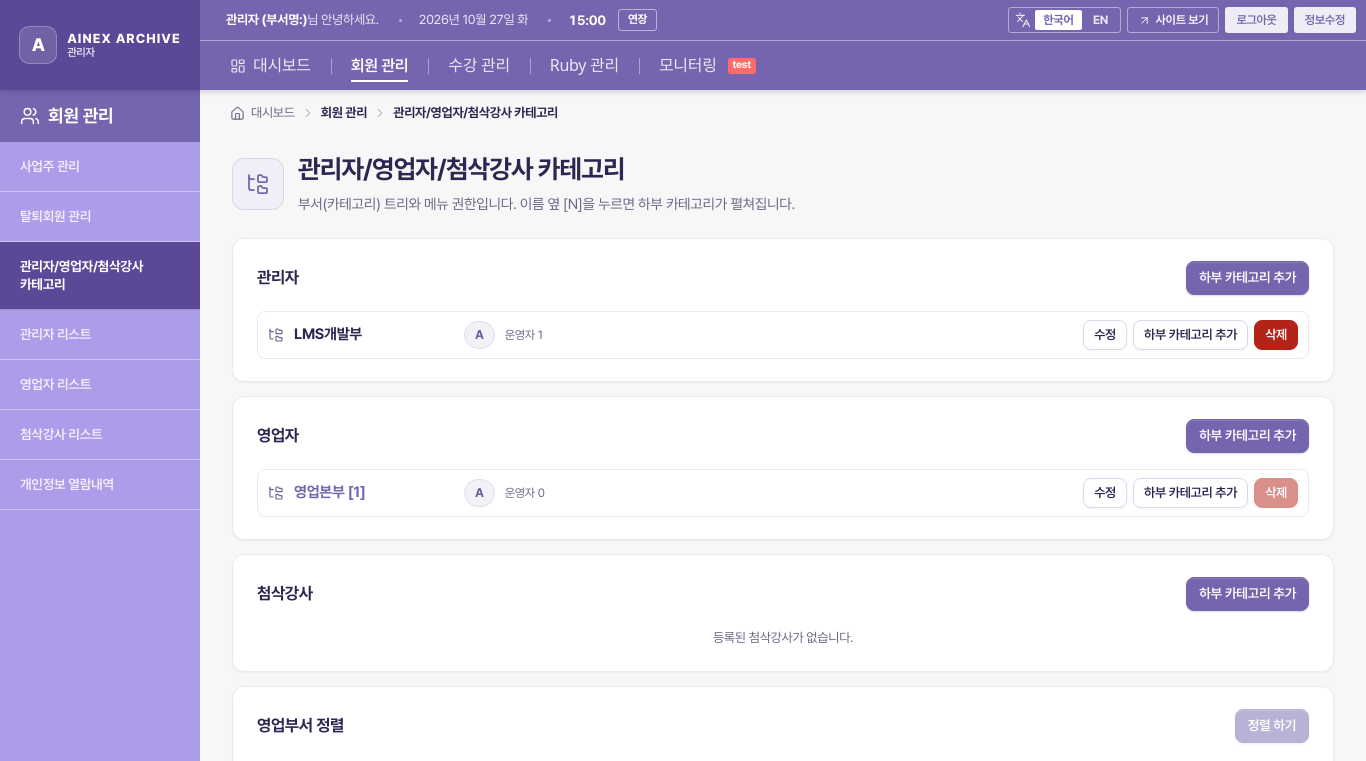
it: staff parity pages › 카테고리: collapsed trees with [N], per-dept empty text, 영업부서 정렬 by OrderByNum with Deep, 상위 카테고리, per-dept 권한, confirm
The image size is (1366, 761).
Expected: the text "등록된 첨삭강사가 없습니다." is shown, [713,630,853,645]
Expected: the text "1팀" is not shown
What coordinates should you click on to do the following:
click the button "영업본부 [1]"
I would click on:
 (374, 493)
Its box is [294,480,454,506].
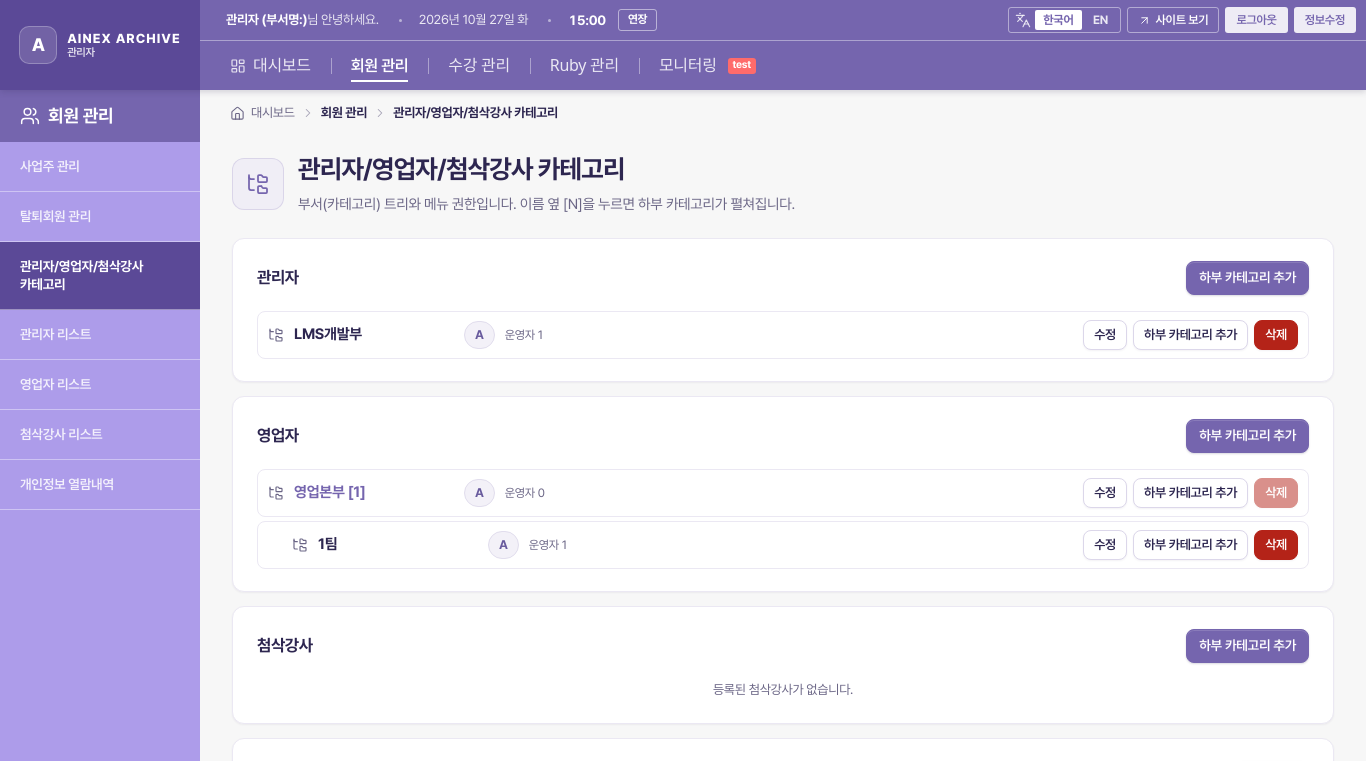
Now the text "1팀" is shown, box [318,535,337,553]
What coordinates should you click on to do the following:
click the 3rd button "수정"
I would click on:
 (1105, 545)
Its box is [1083,530,1127,560].
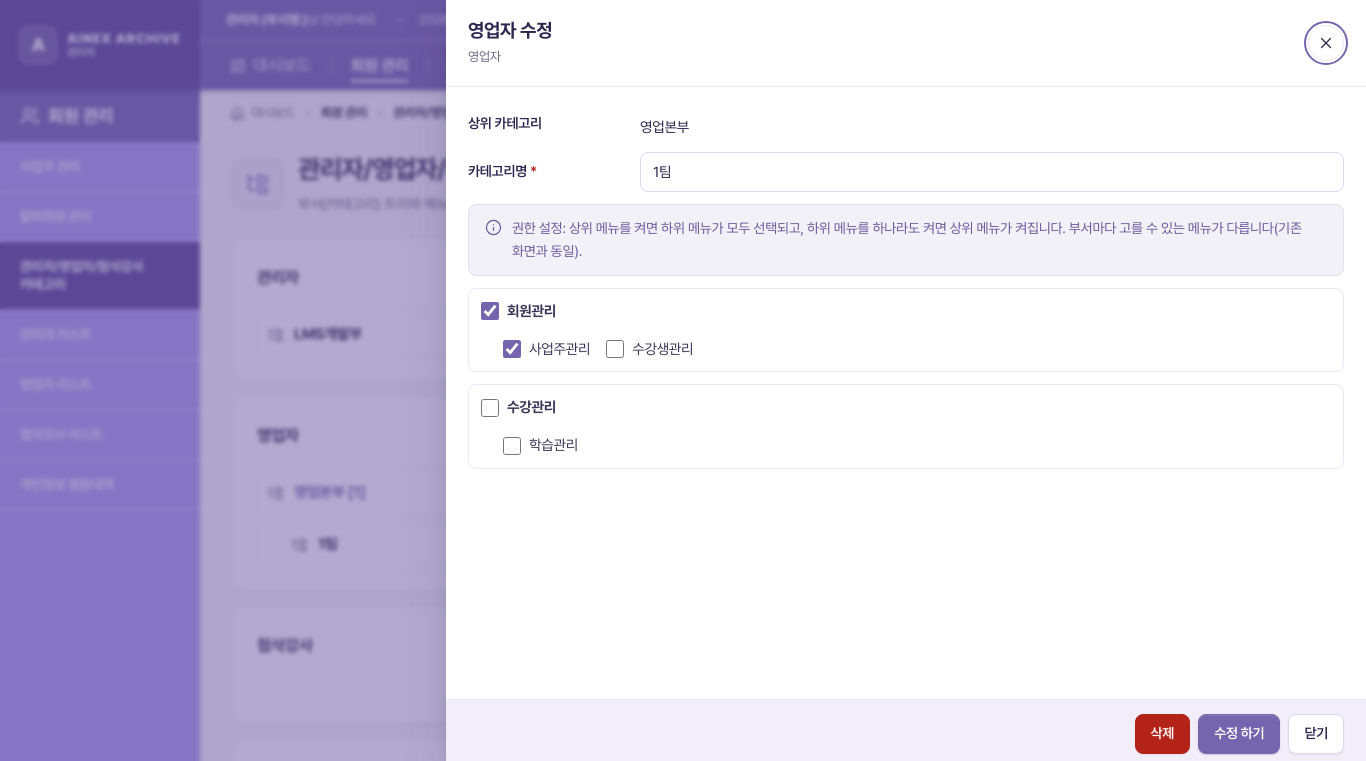
Now the text with test id "upper-category" reads "영업본부", box [640,118,689,135]
Now the text "학습관리" is shown, box [529,433,578,458]
What coordinates should you click on to do the following:
click the button "수정 하기"
I would click on:
 (1239, 734)
Its box is [1198,714,1280,754].
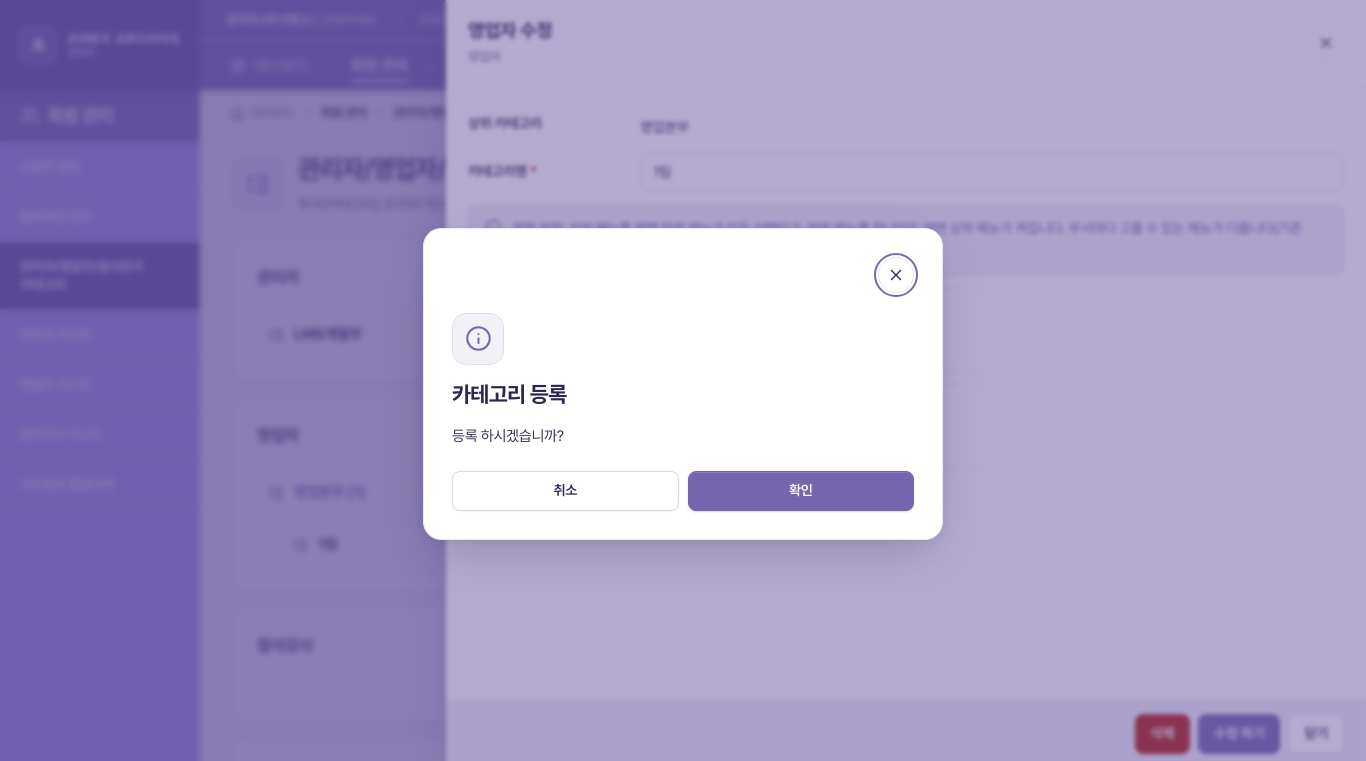
Now the text "등록 하시겠습니까?" is shown, box [452,427,564,445]
